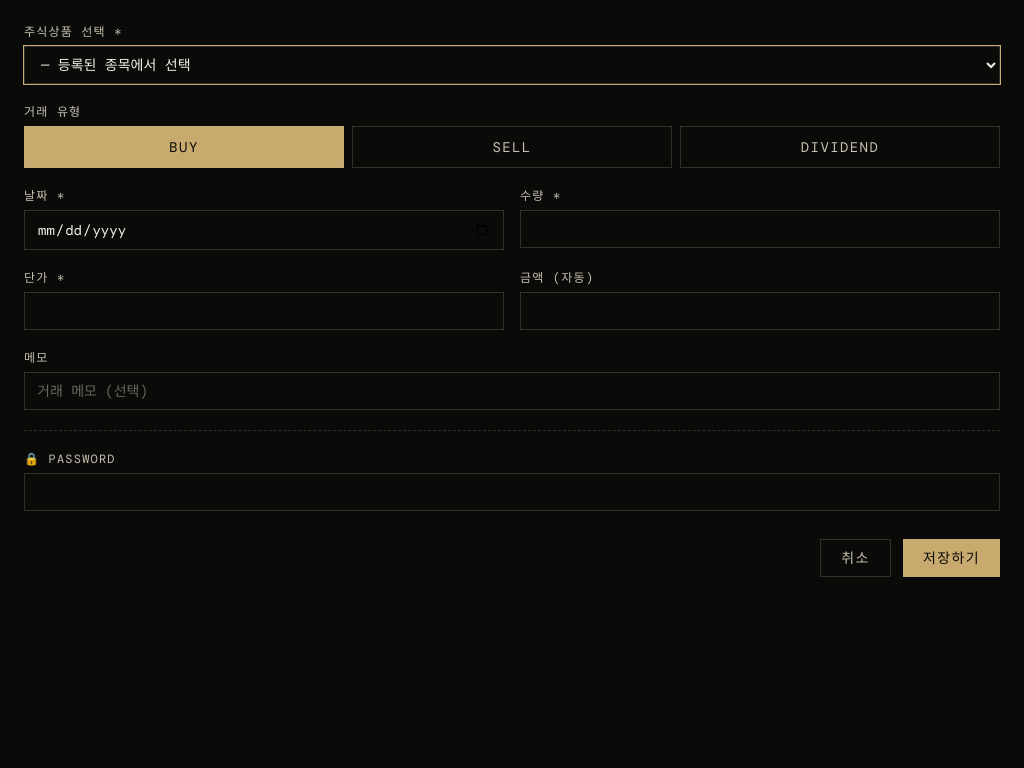
Test: TransactionForm › TS-58: 수량 10, 단가 78500 → amount "785000"
Click the button "BUY".
click(184, 147)  # box top-left (24, 126), bottom-right (344, 168)
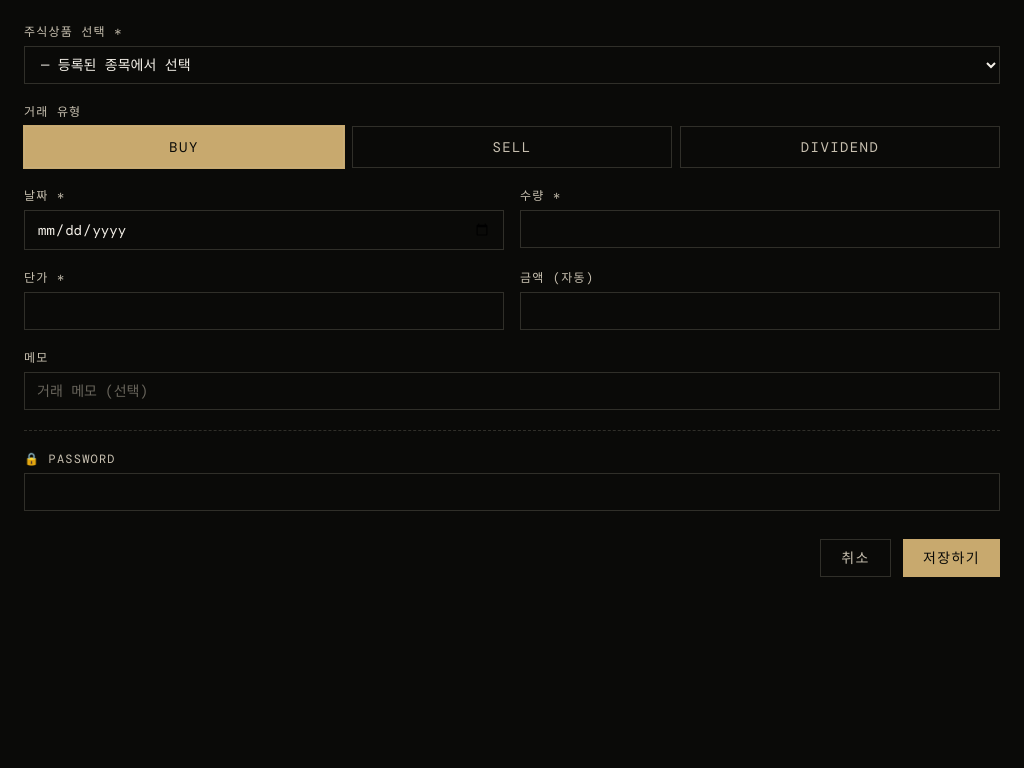
Type "10" into the number field labelled "수량 *".
click(760, 229); type("10")  # box top-left (520, 210), bottom-right (1000, 248)
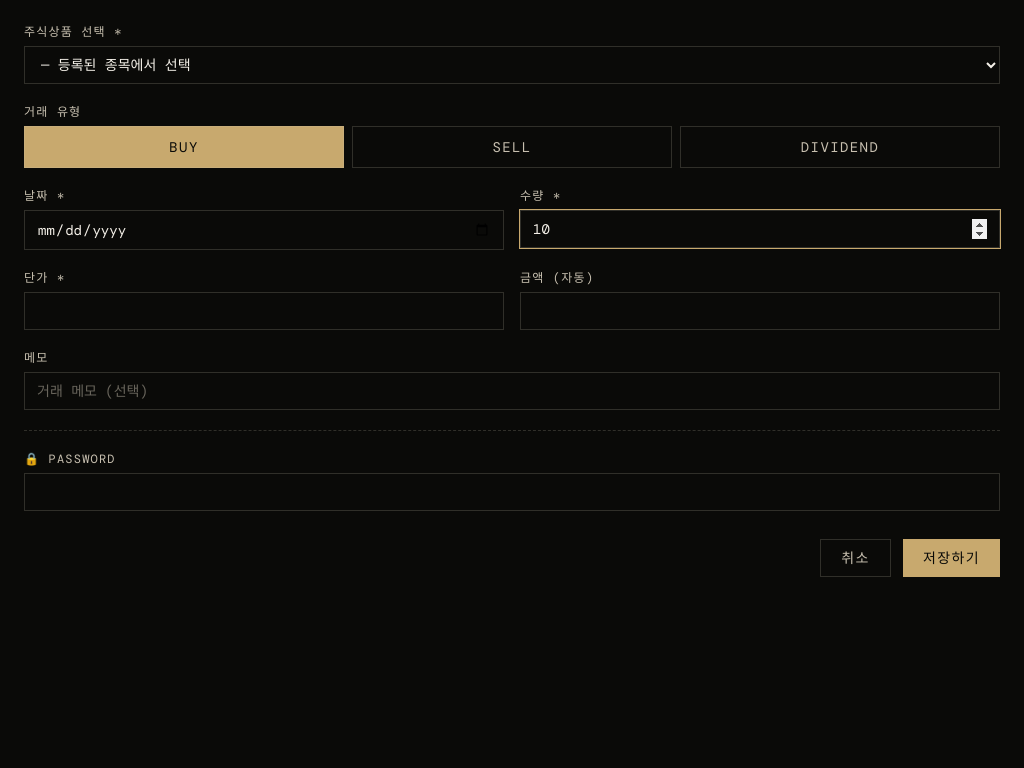
Type "78500" into the number field labelled "단가 *".
click(264, 311); type("78500")  # box top-left (24, 292), bottom-right (504, 330)
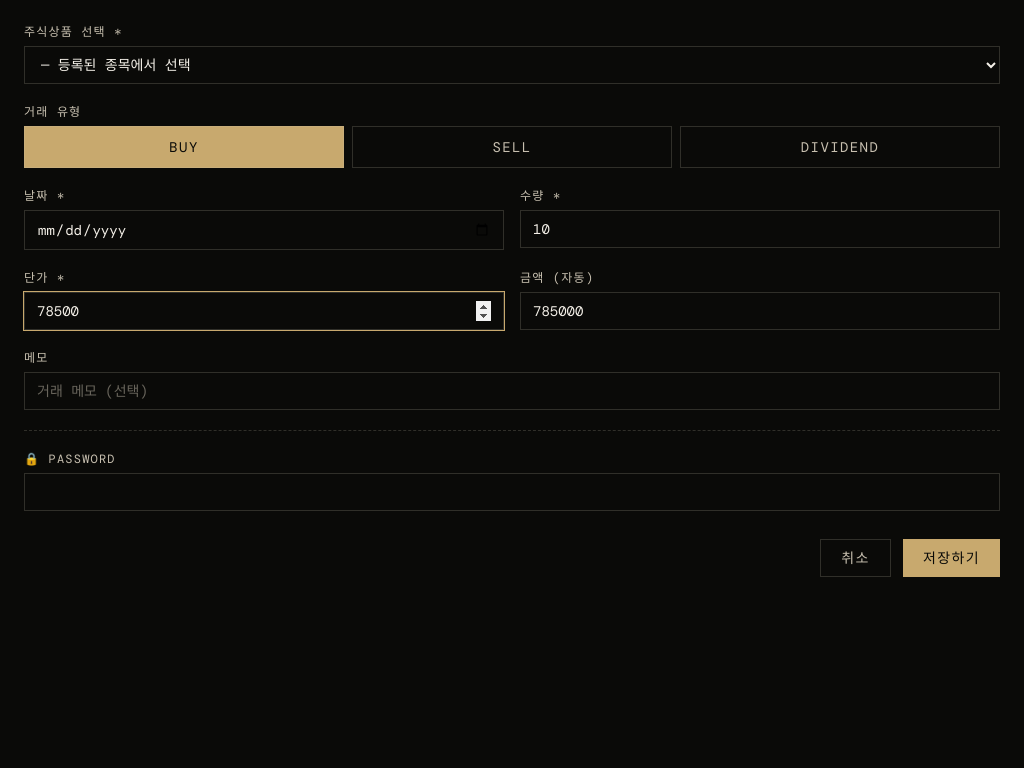
expect the number field labelled "금액 (자동)" holds "785000": met, box top-left (520, 292), bottom-right (1000, 330)
